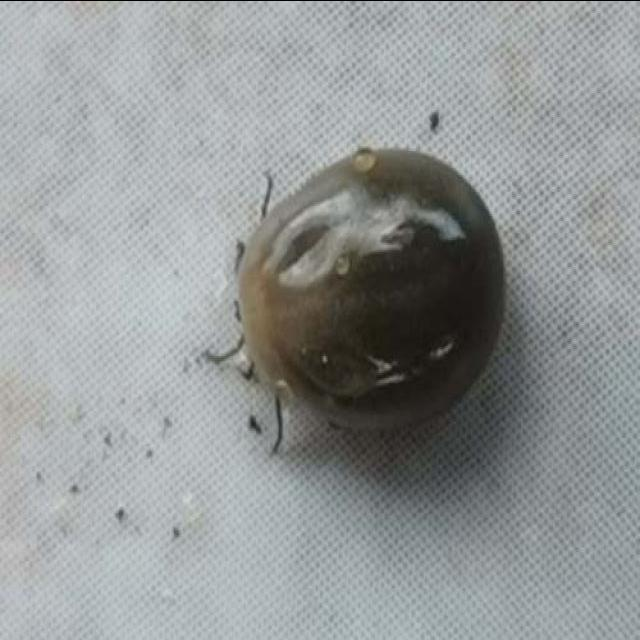Ixodes Ricinus-F-Fed: (206, 143, 508, 444)
